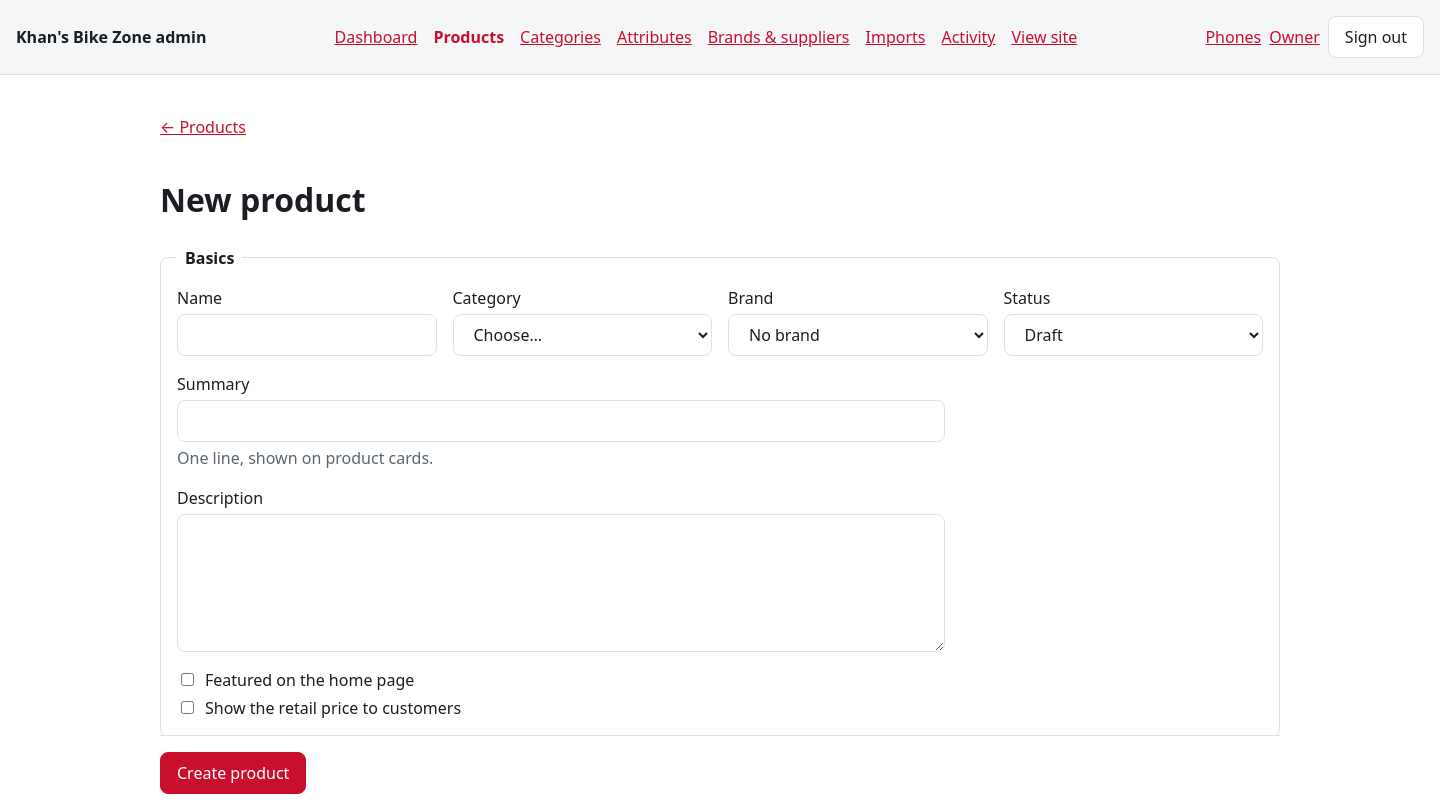
Scenario: product editor › creates a product with a variant from the category form
This screenshot has width=1440, height=810.
Type "Star Grips" into the field labelled "Name" at (307, 335), box x1=177 y1=314 x2=436 y2=356
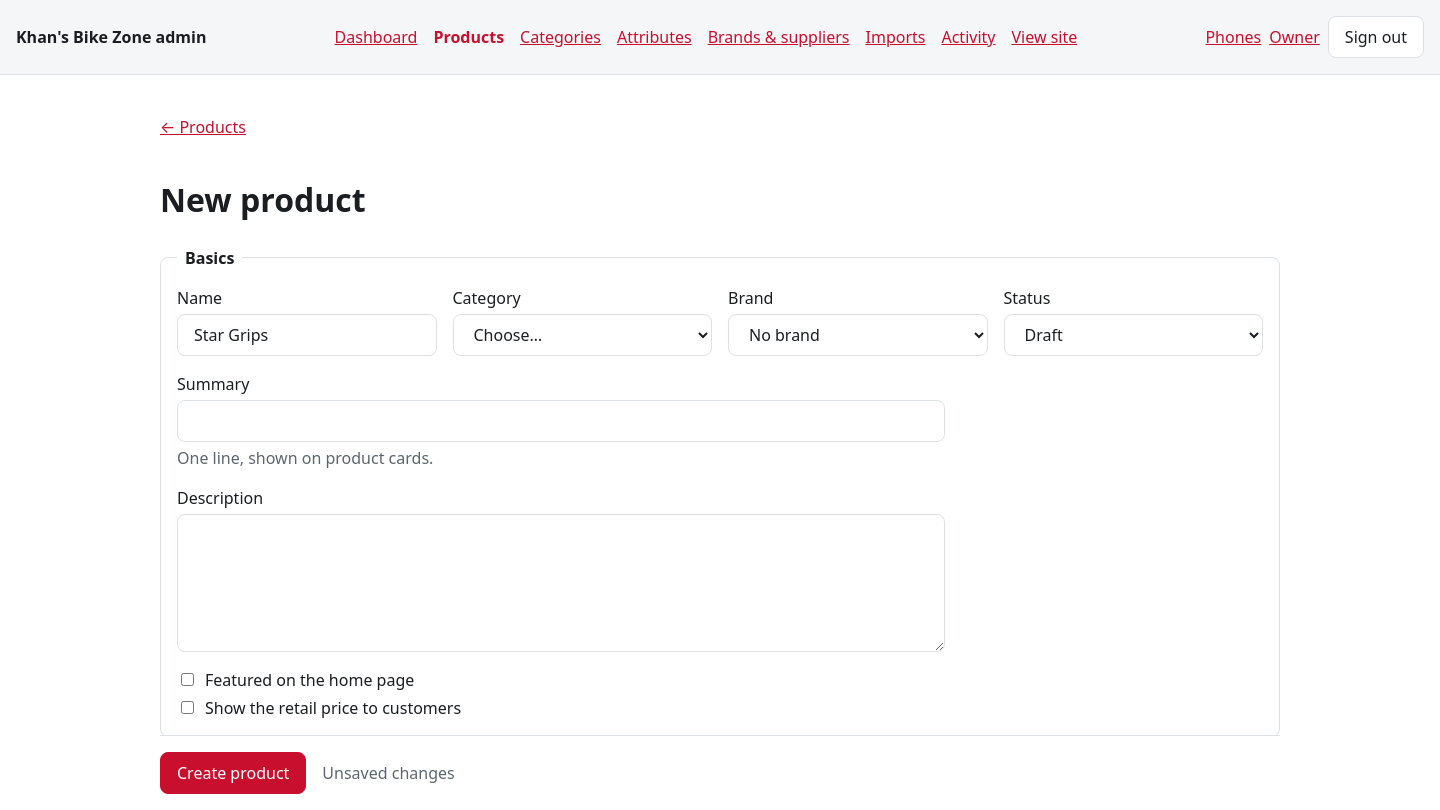
Select "Grips" in the dropdown labelled "Category" at (582, 335), box x1=452 y1=314 x2=712 y2=356
(page scrolled)
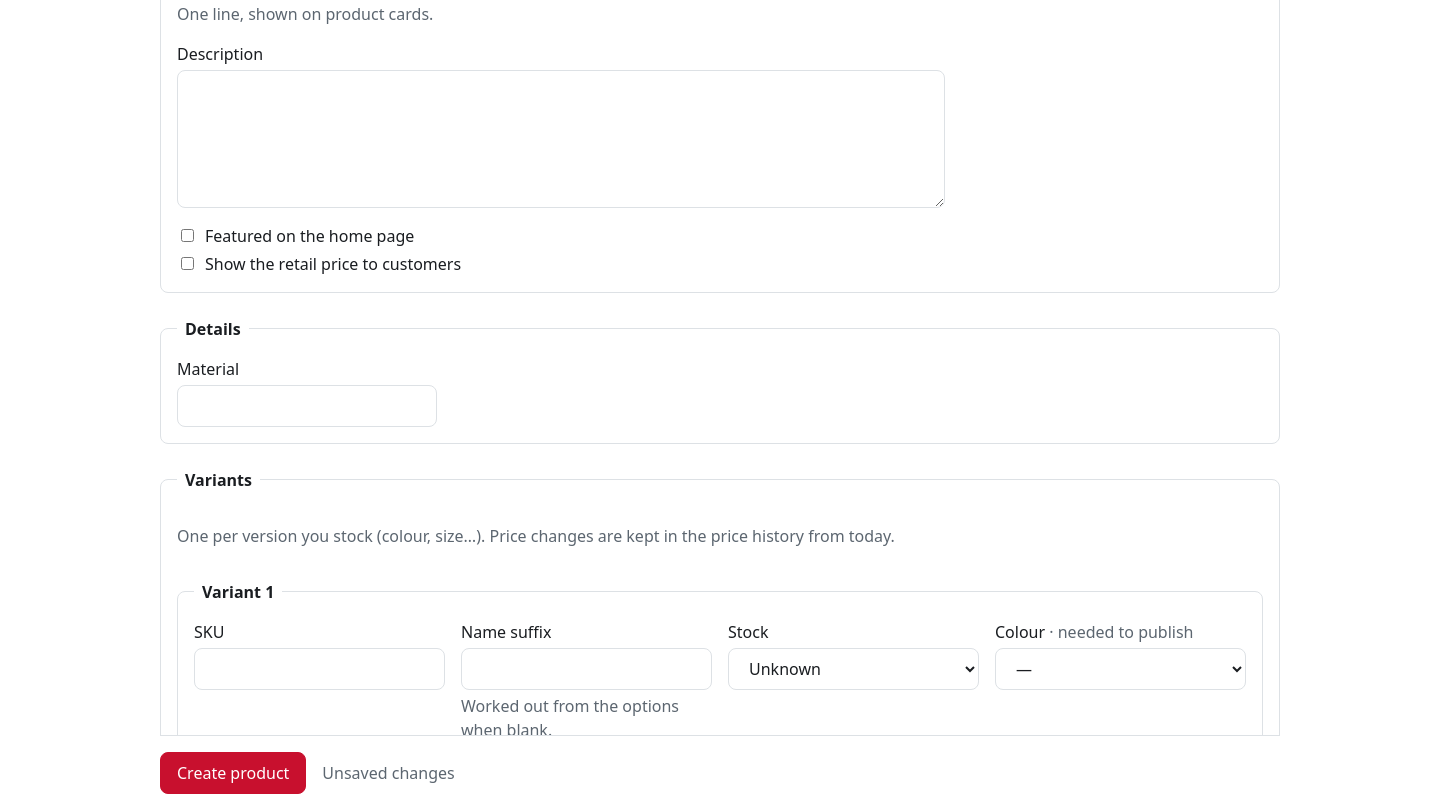
Note: The category's form: product-level Material, per-variant Colour.
Type "rubber" into the field labelled "Material" at (307, 406), box x1=177 y1=385 x2=436 y2=427
Select "Black" in the dropdown labelled "Colour · needed to publish" at (1120, 669), box x1=995 y1=648 x2=1246 y2=690
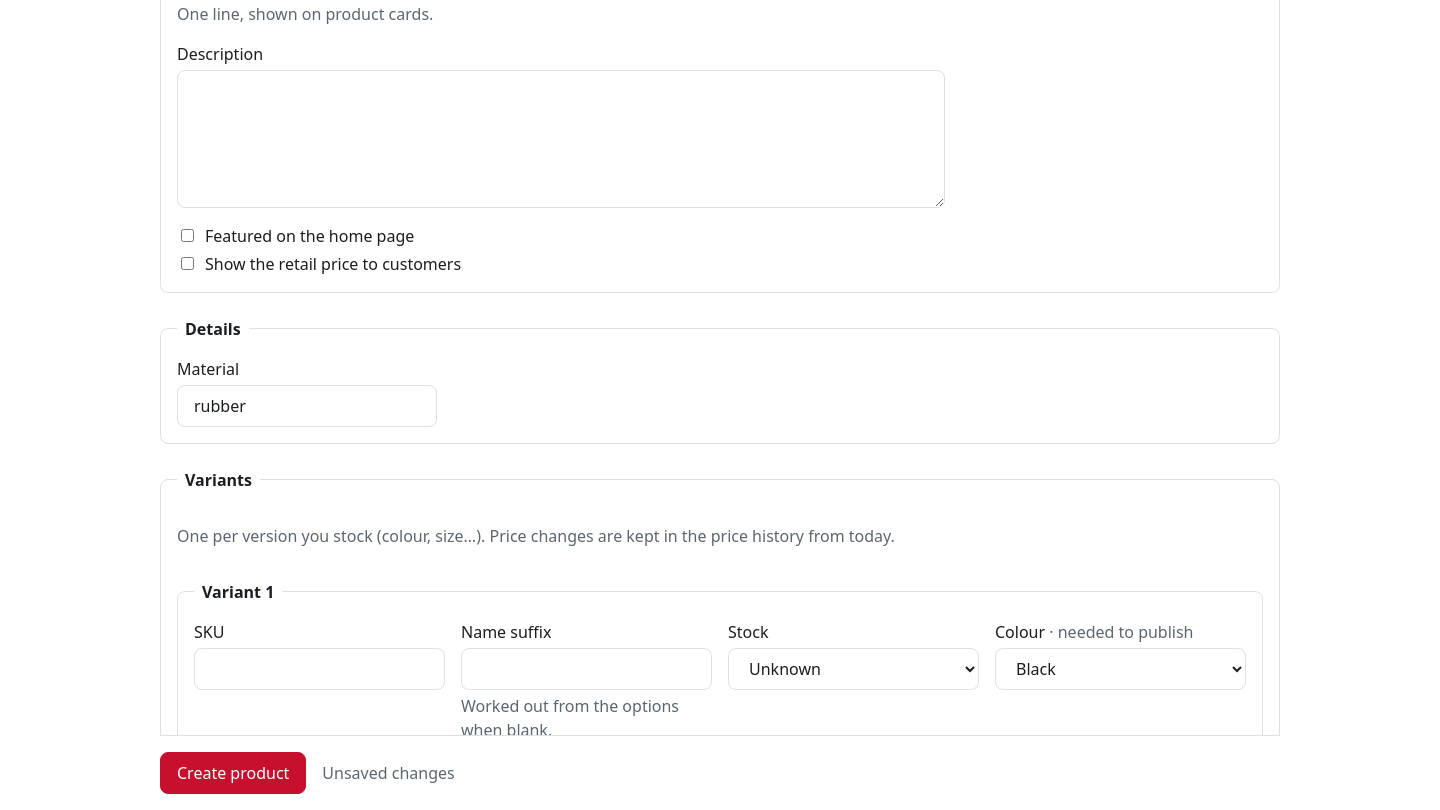
Type "SG-BK" into the field labelled "SKU" at (320, 669), box x1=194 y1=648 x2=445 y2=690
(page scrolled)
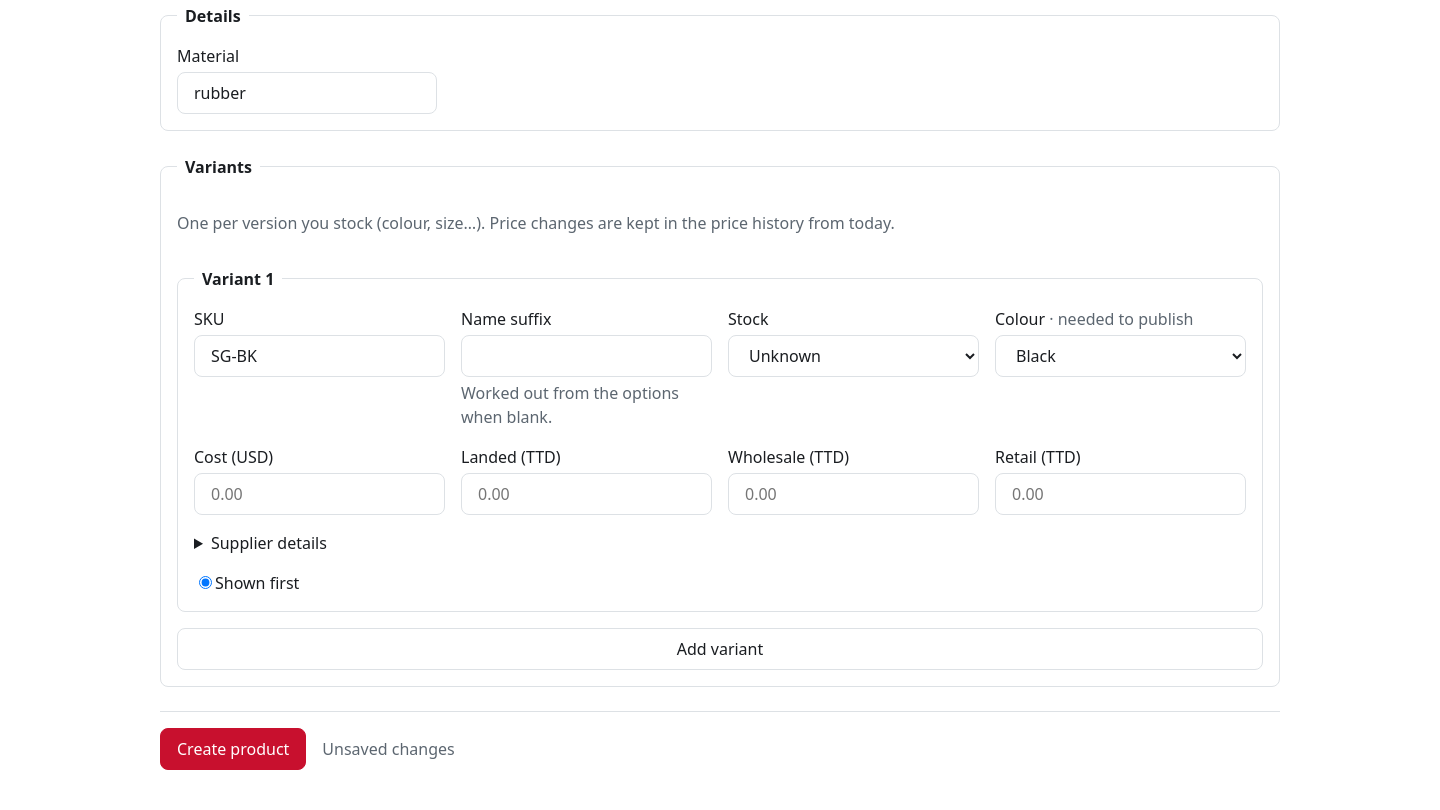
Type "45" into the field labelled "Retail (TTD)" at (1120, 494), box x1=995 y1=473 x2=1246 y2=515
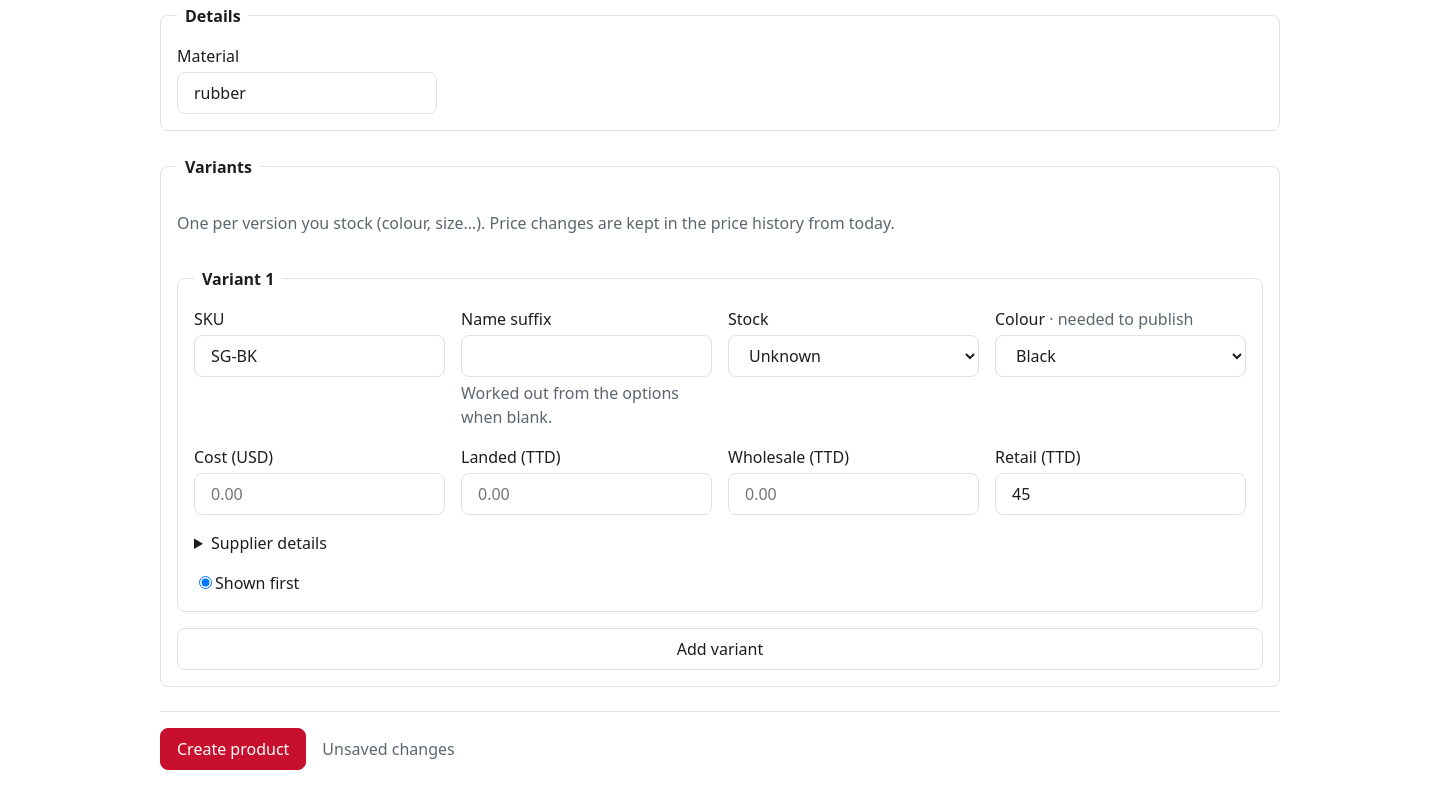
Click the button "Create product" at (233, 749), box x1=160 y1=728 x2=306 y2=770
(page scrolled)
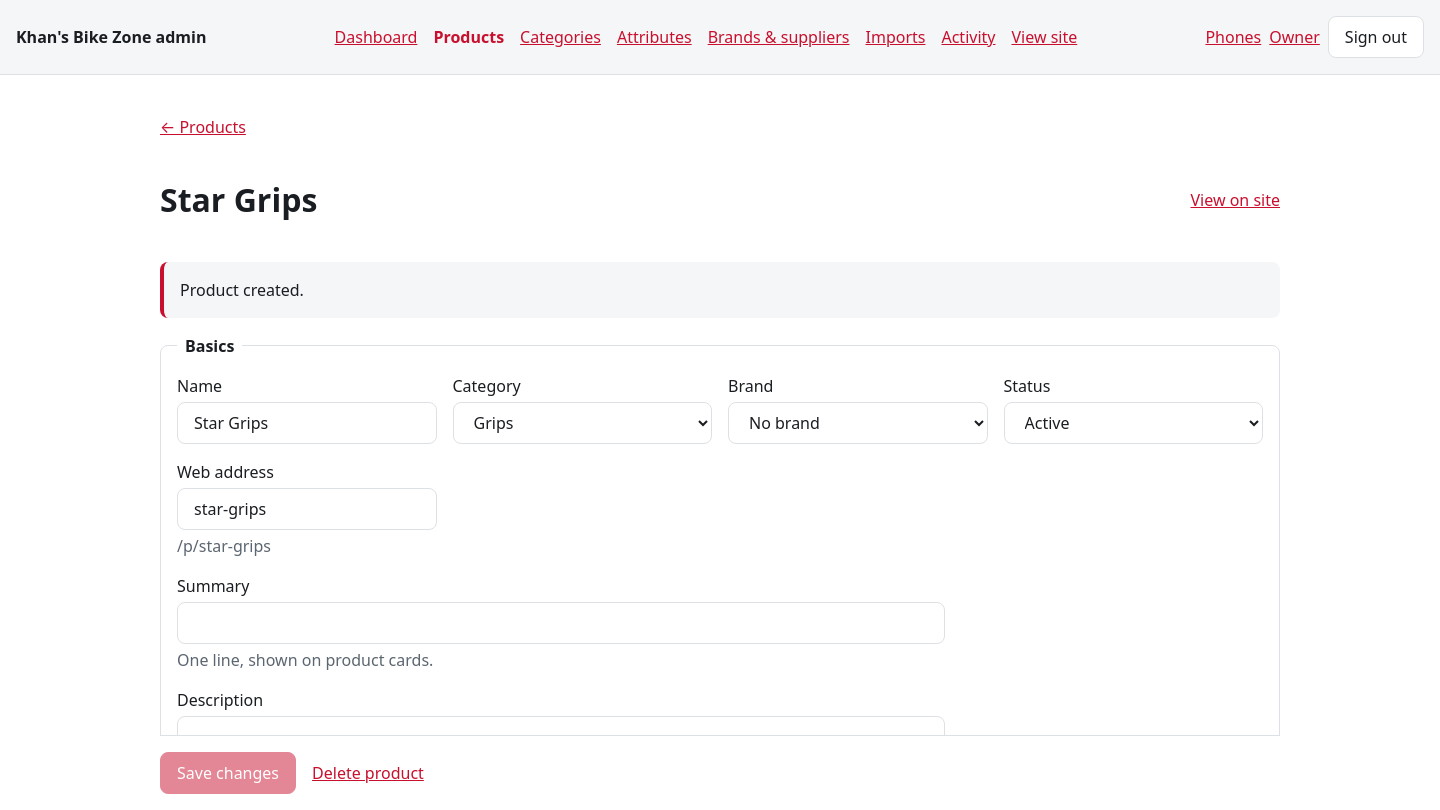
Expected: the text "Product created." is shown, x1=160 y1=262 x2=1280 y2=318
